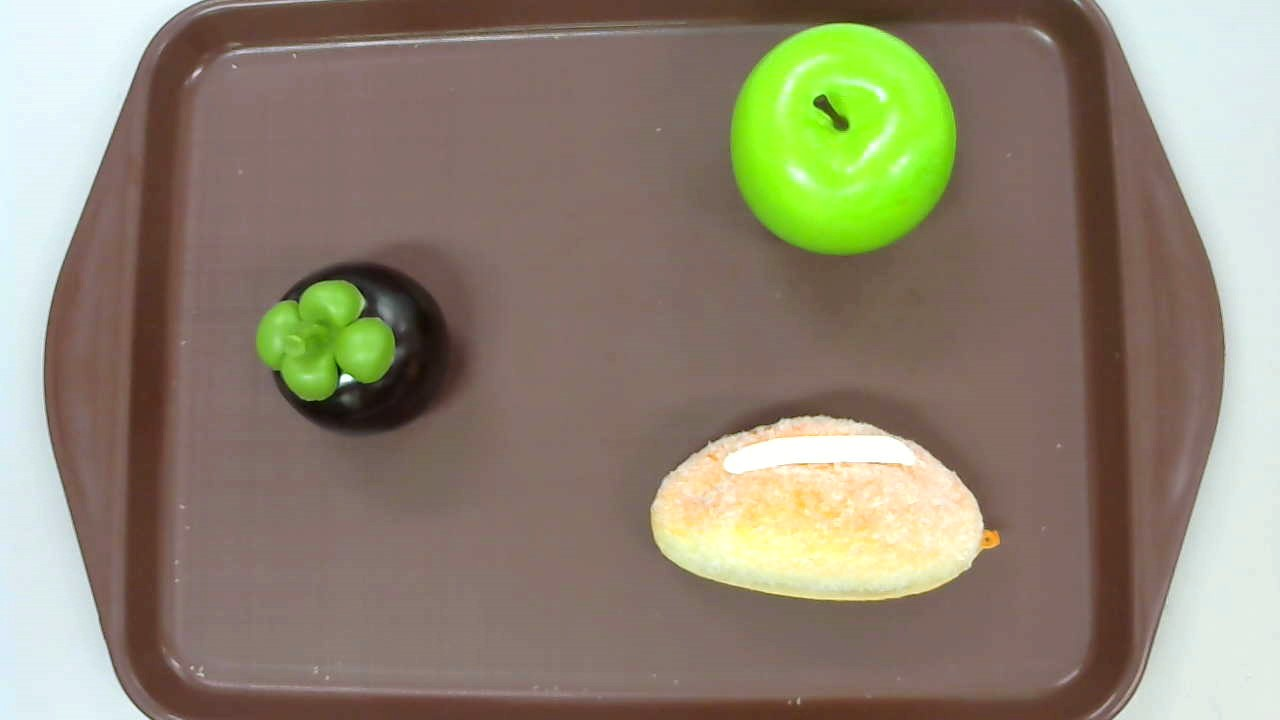coconut: (650, 414, 1000, 603)
green apple: (731, 22, 958, 256)
mangosteen: (254, 262, 456, 436)
